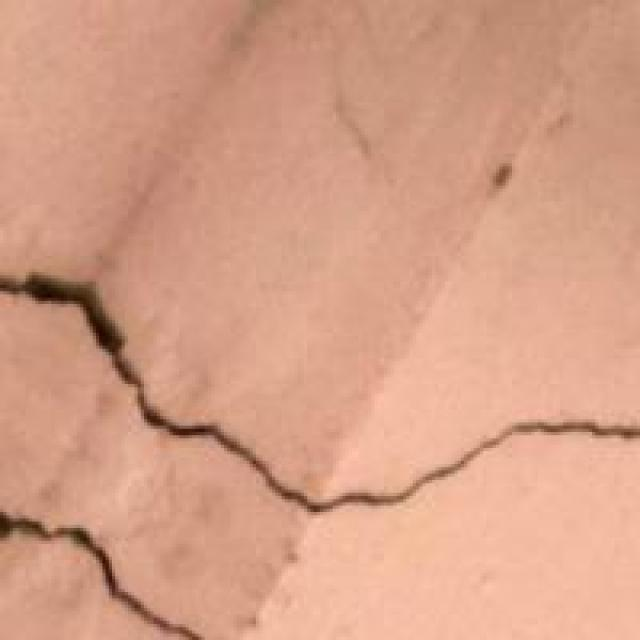crack: (0, 237, 637, 637)
